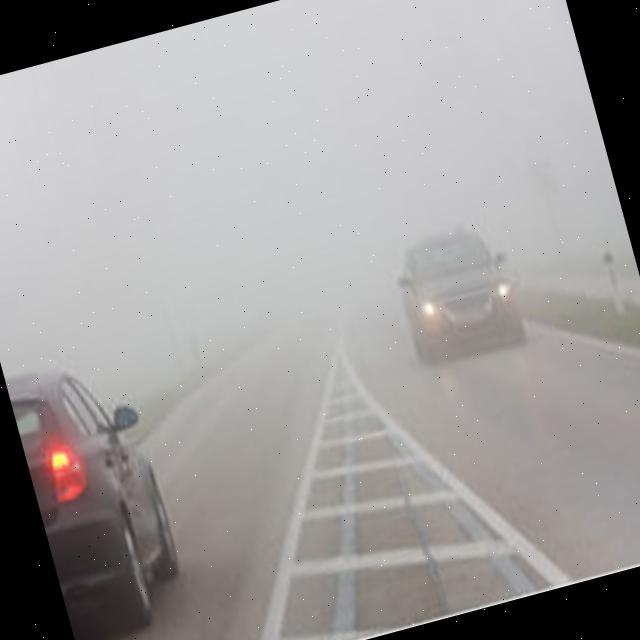car: (5, 348, 197, 640), (388, 219, 528, 369)
